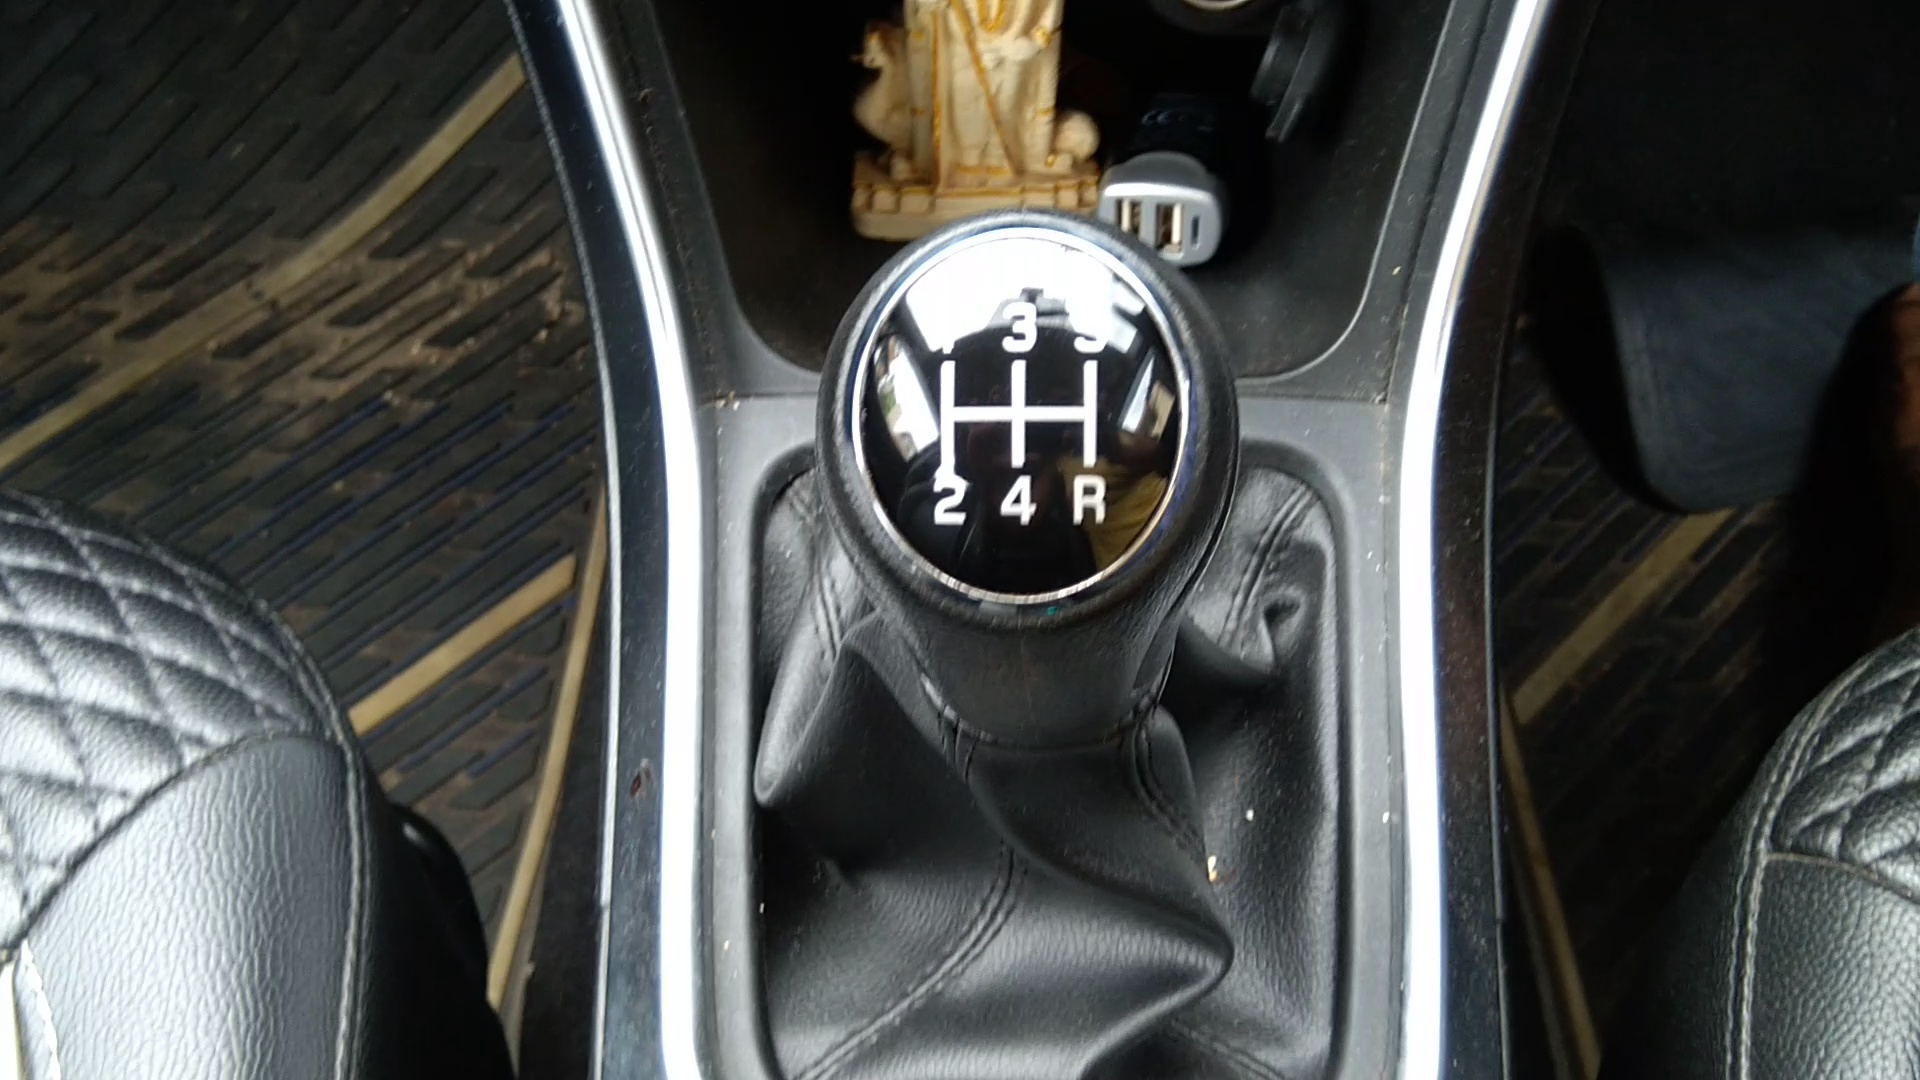manual_gear: (808, 200, 1254, 829)
